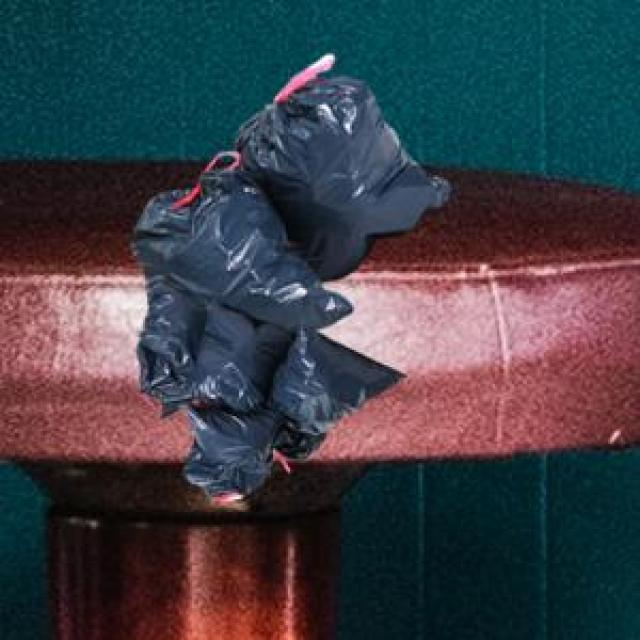miscellaneous trash: (128, 51, 452, 414), (132, 273, 401, 497)
